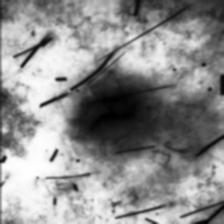Potentially Malignant Skin Tumors: (68, 77, 152, 160)
